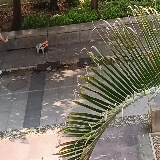fire: (42, 40, 47, 47)
